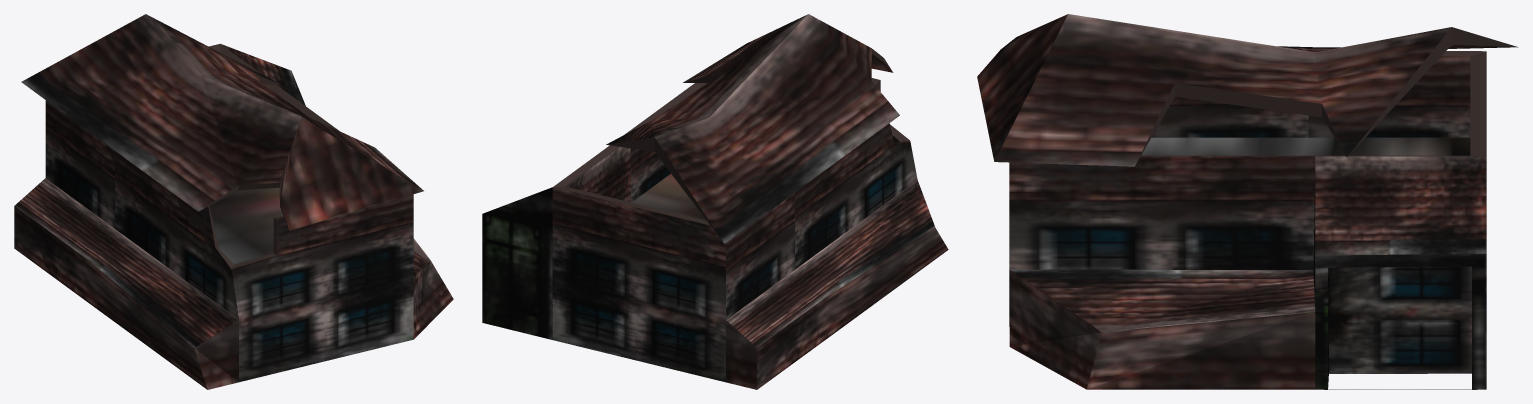
File: ruin02.obj
The picture shows the model from 3 angles, left to right: view 1: azimuth 30°, elevation 25°; view 2: azimuth 150°, elevation 25°; view 3: azimuth 270°, elevation 25°; orthographic projection. The views are drawn at different scales.
Parts seen in each view (by area): view 1: Ruin2; view 2: Ruin2; view 3: Ruin2.
Part boxes in pixels (left/top/right/bottom): Ruin2: left=14, top=14, right=453, bottom=389; Ruin2: left=482, top=14, right=948, bottom=389; Ruin2: left=977, top=14, right=1518, bottom=389.
Bounding box in the file's own units: 23.82 × 18.61 × 32.65.
Materials: 1 (1 with a texture image).
